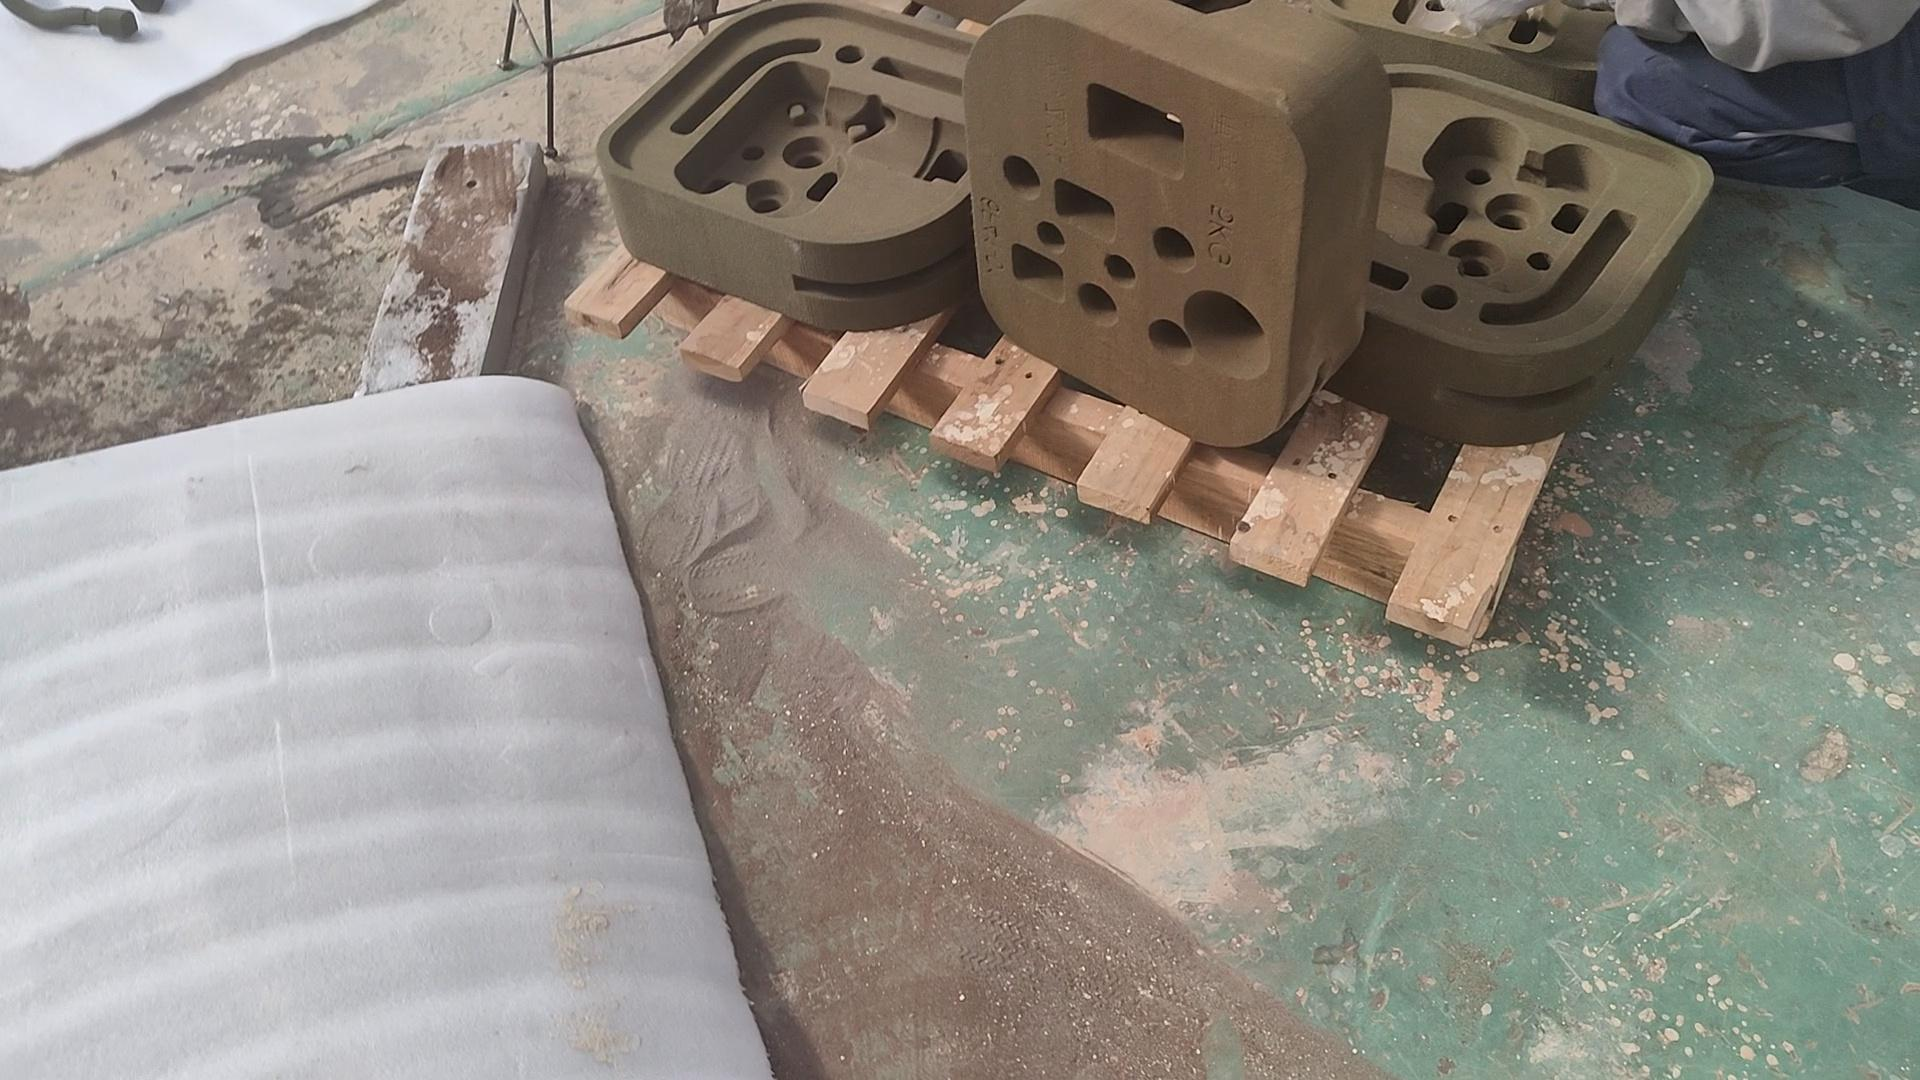pouring hole: (1185, 289, 1270, 381)
